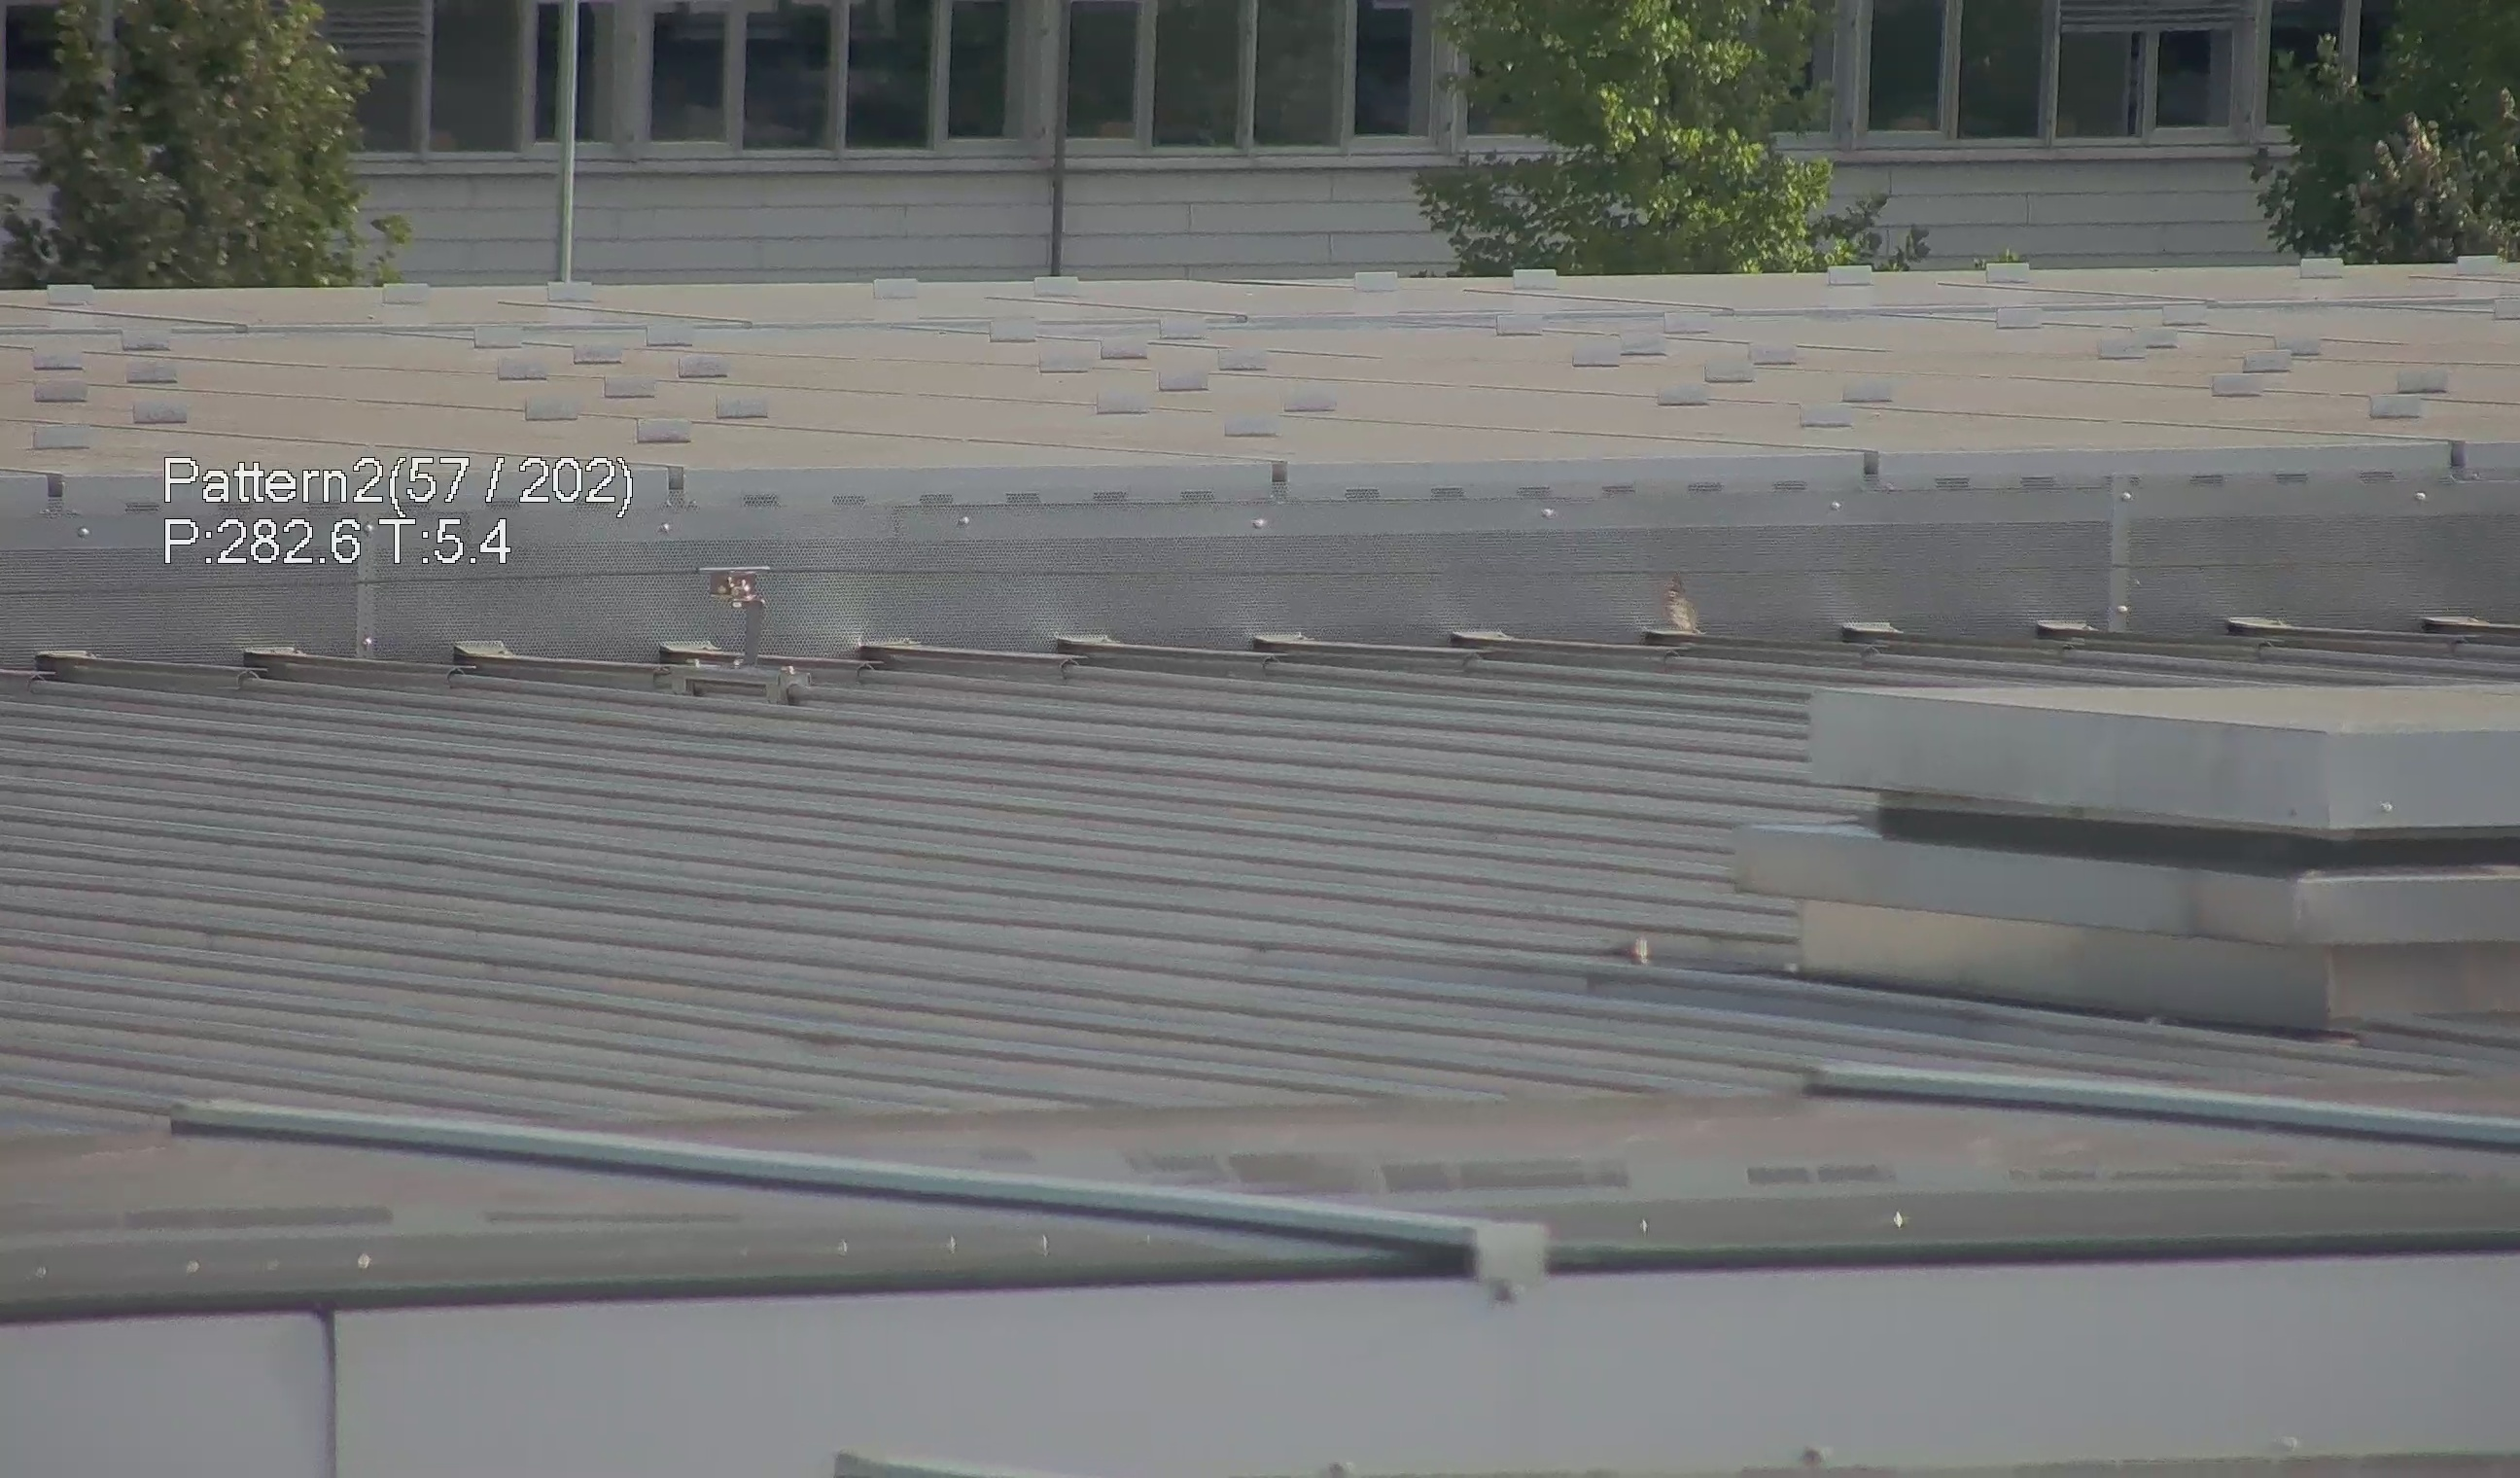Other: (1644, 560, 1713, 648)
